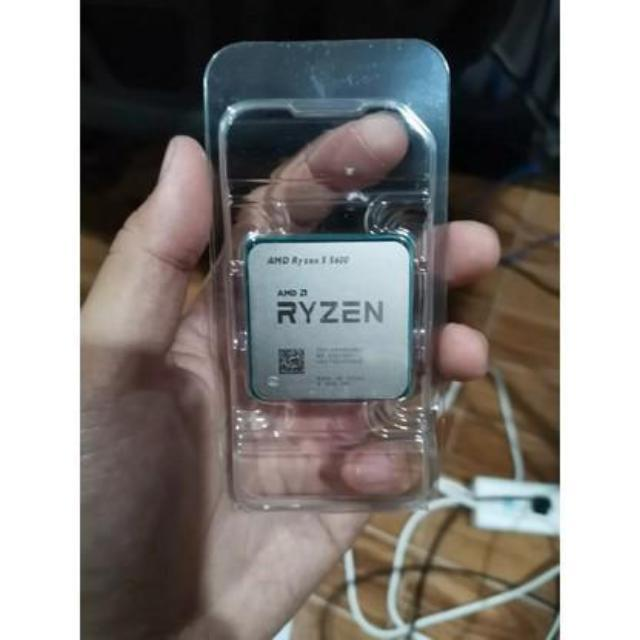CPU: (239, 242, 410, 400)
